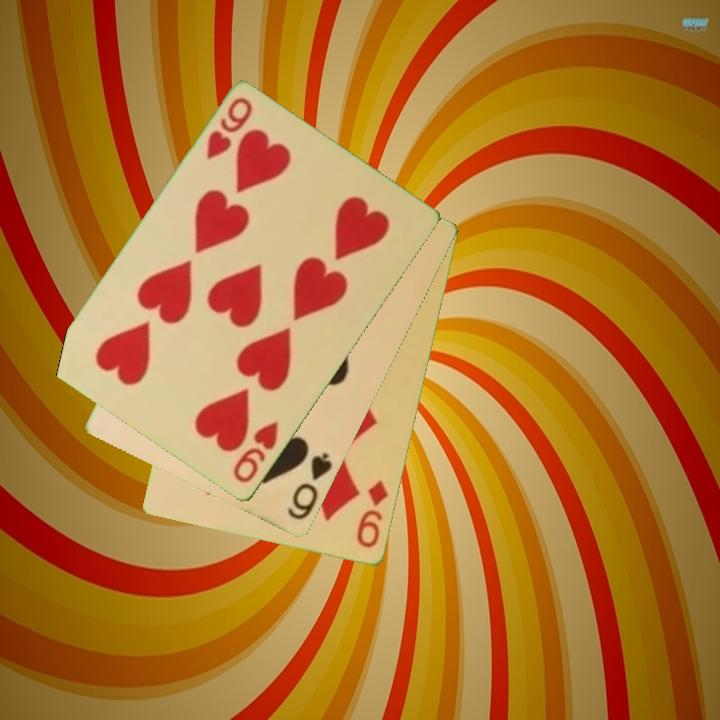6s: (284, 449, 336, 524)
9d: (353, 477, 392, 552)
9h: (203, 94, 256, 164), (229, 418, 282, 487)
